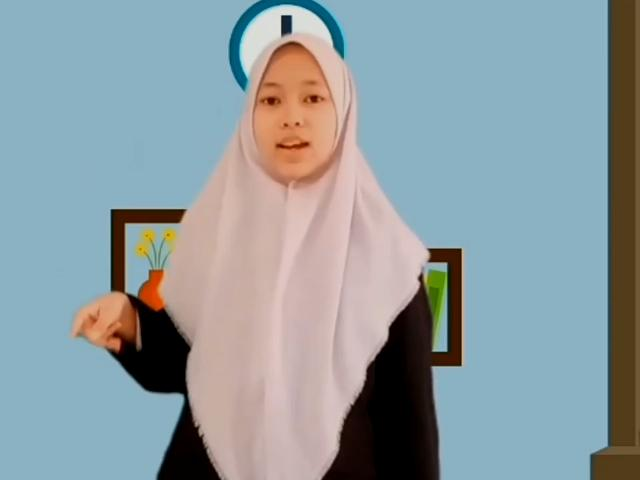Q: (70, 288, 136, 356)
